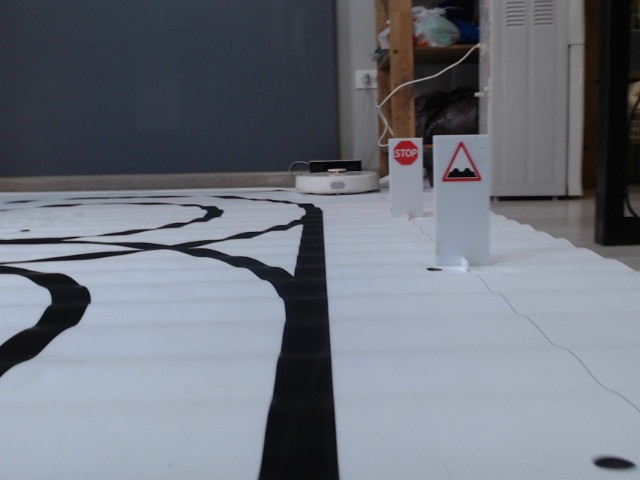Nerov: (439, 140, 483, 183)
Stop: (392, 141, 419, 165)
